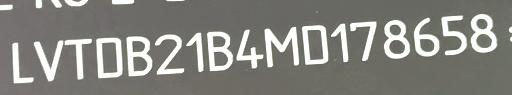letter: (262, 28, 300, 69), (468, 11, 500, 54), (380, 18, 412, 61), (348, 19, 380, 60), (153, 34, 185, 75), (122, 35, 154, 76), (233, 29, 263, 72), (204, 30, 234, 73), (94, 35, 124, 78), (33, 38, 63, 81), (6, 40, 36, 83), (440, 11, 468, 56), (300, 25, 330, 66), (62, 38, 92, 79), (412, 17, 440, 58), (331, 22, 353, 63), (184, 31, 206, 72)
